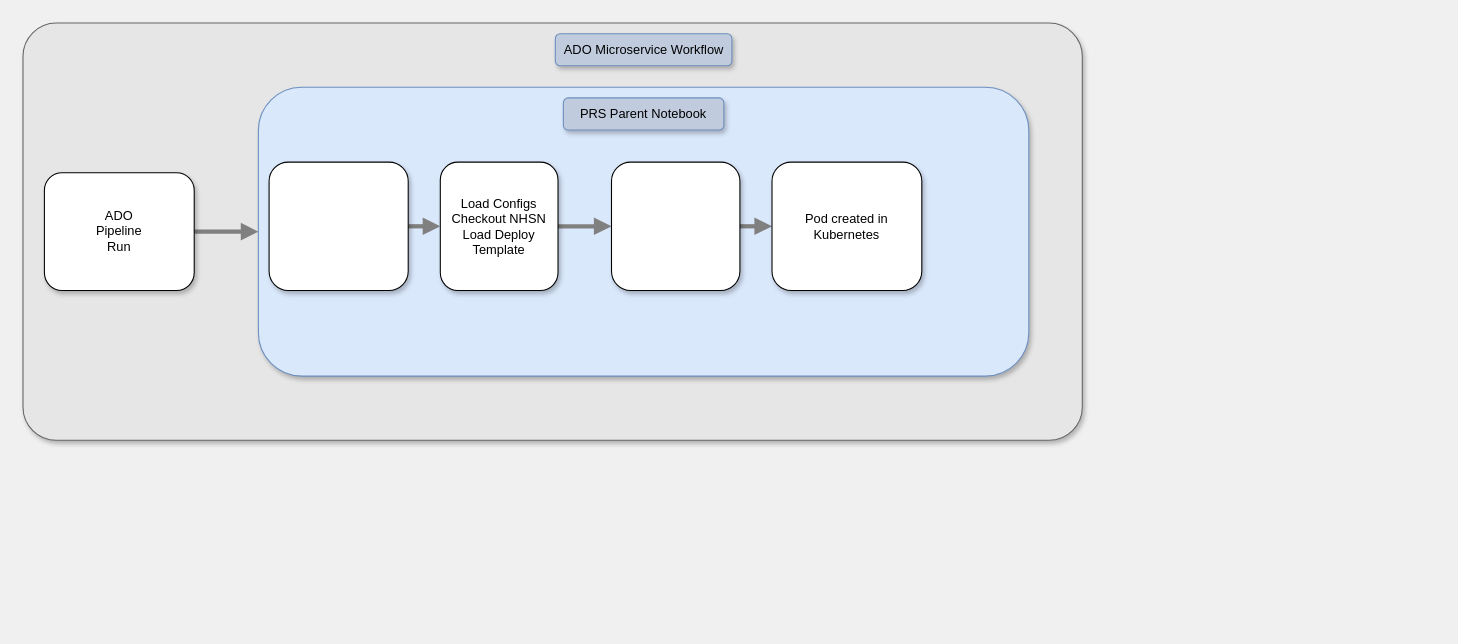
Image size: 1458x644. Some labels were removed from this diagram. Each missing label, with the centre of its shape:
Load Variable Groups Apply Secrets: pixel 339 227
Run Bash Deploy w/ Helm: pixel 676 227
